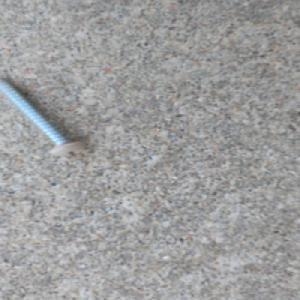Screw: (0, 75, 88, 157)
